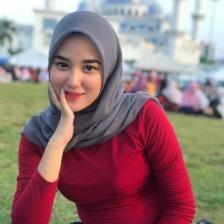Non Syar-i: (18, 8, 156, 152)
